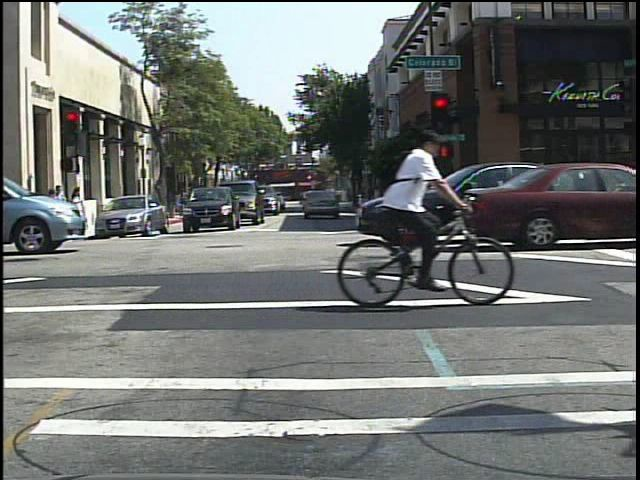person: (369, 122, 458, 301)
